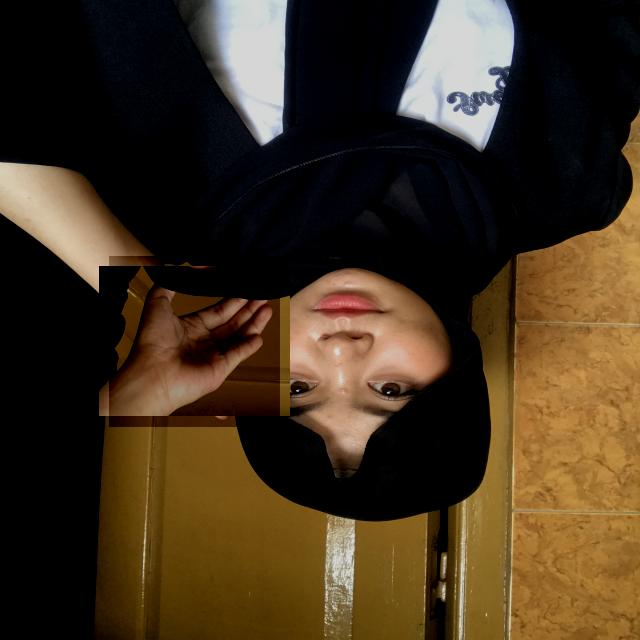mendengar: (109, 256, 280, 427)
